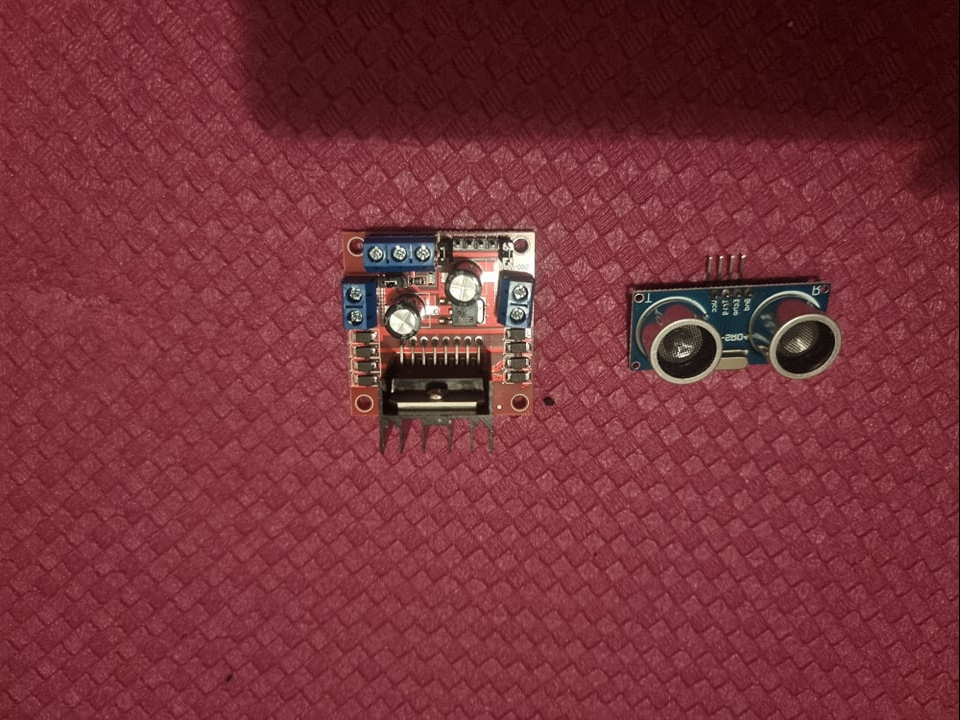MOTOR: (339, 228, 546, 447)
SENSOR: (626, 281, 850, 381)
